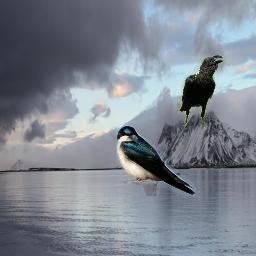Crow: (178, 53, 225, 130)
Swallow: (116, 125, 196, 196)
